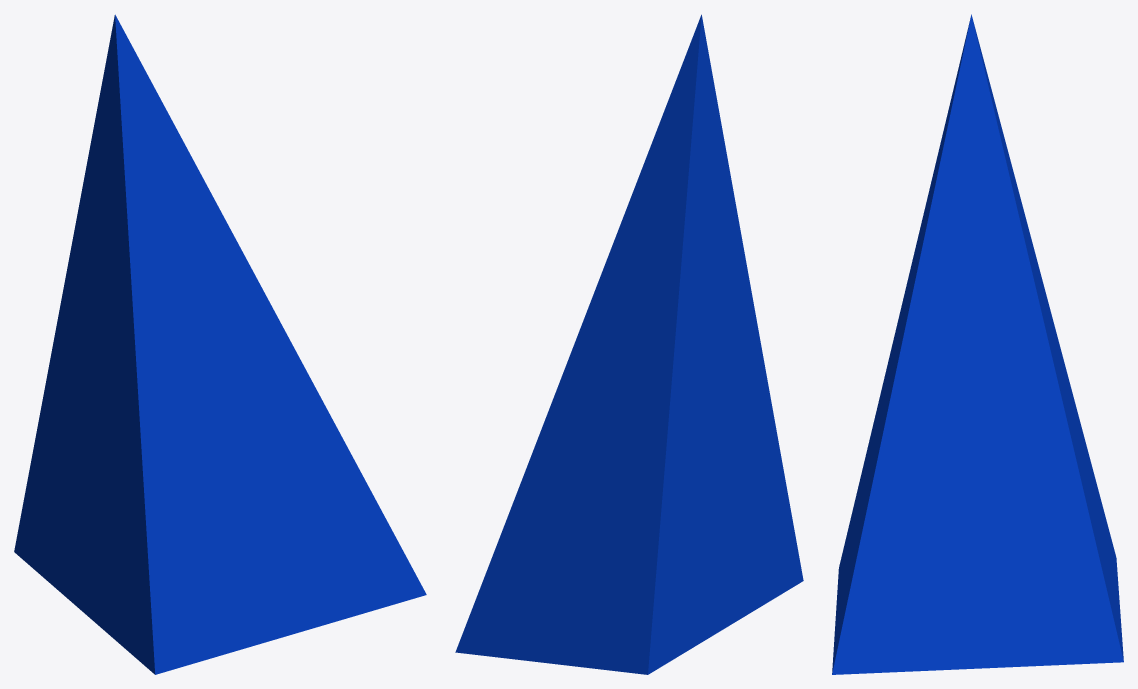
Rendered from garden_table_convex_piece_012.obj.
The picture shows the model from 3 angles, left to right: view 1: azimuth 30°, elevation 25°; view 2: azimuth 150°, elevation 25°; view 3: azimuth 270°, elevation 25°; orthographic projection. The views are drawn at different scales.
Size of the model in its own units: 0.0353 by 0.0767 by 0.0353.
